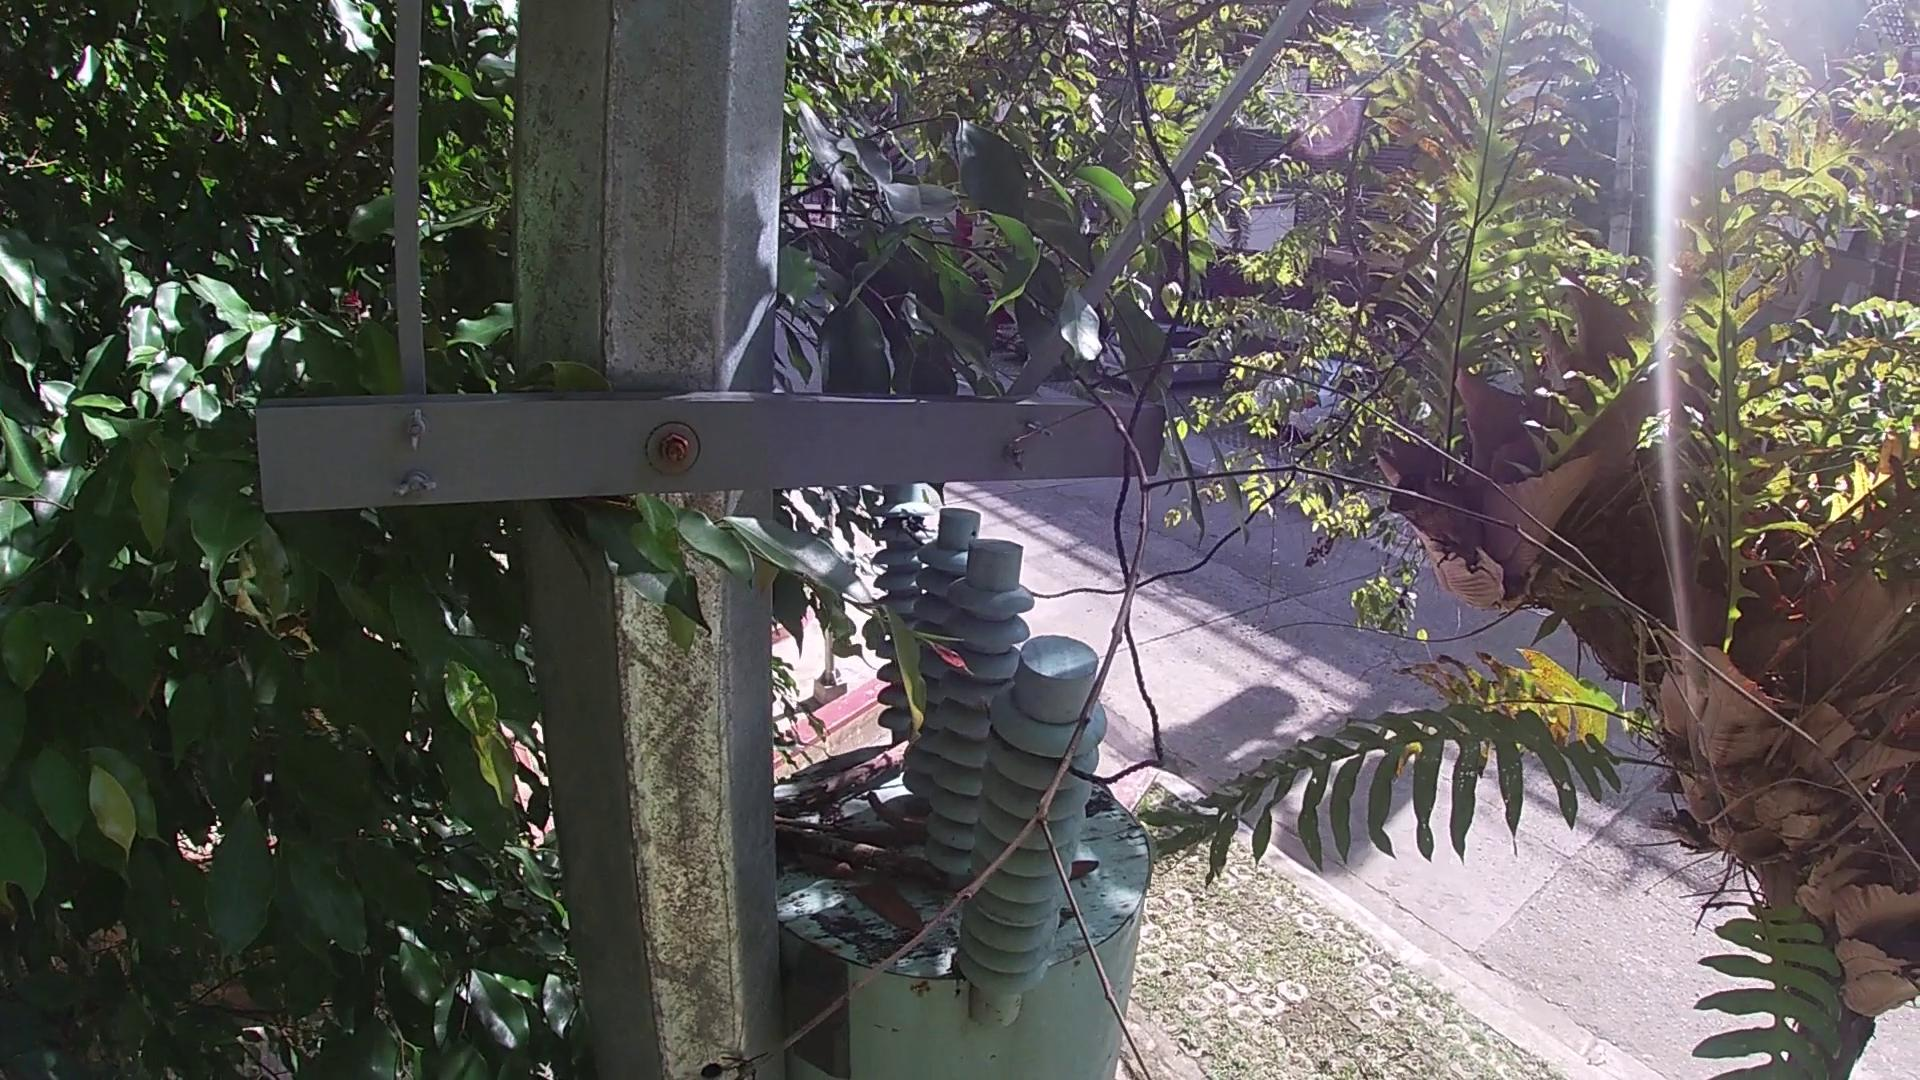leaf: (848, 881, 928, 942), (794, 851, 857, 882), (1067, 856, 1101, 880)
tree branch: (719, 345, 1920, 1079), (774, 822, 951, 885), (796, 735, 919, 814)
